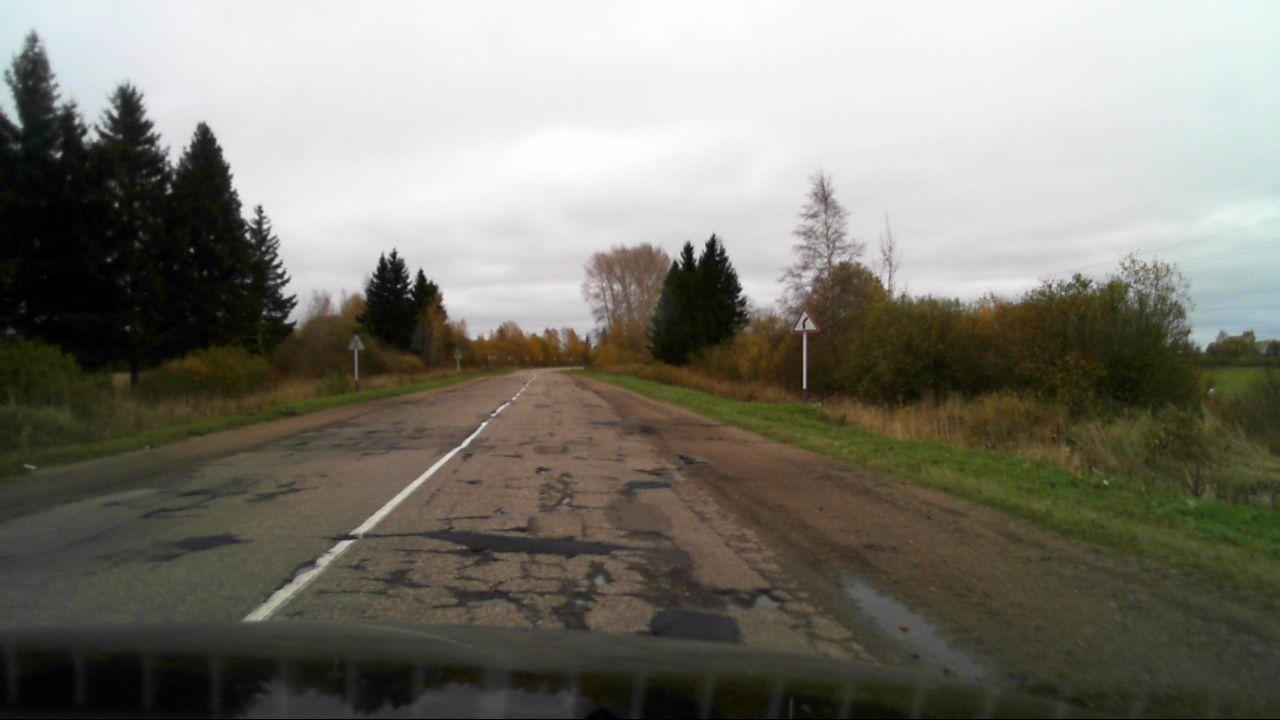pothole: (702, 583, 789, 611)
road_sign: (789, 306, 824, 334)
